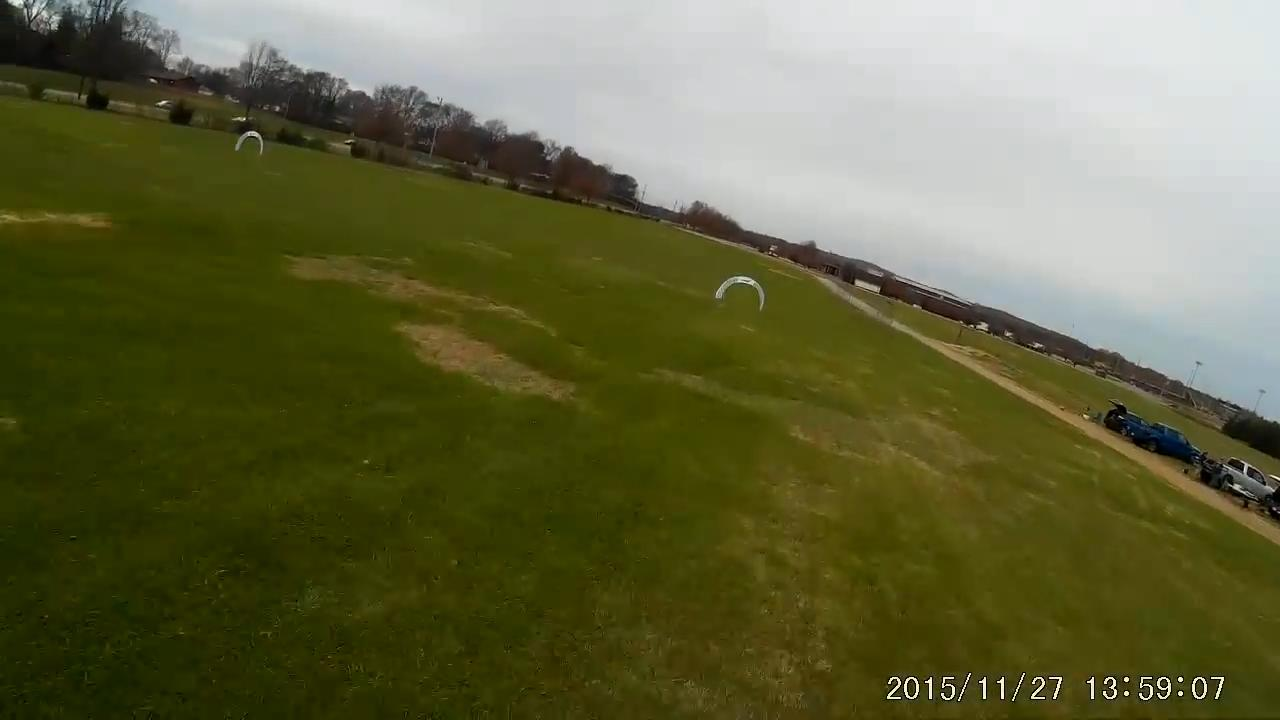gate: (717, 274, 766, 313)
